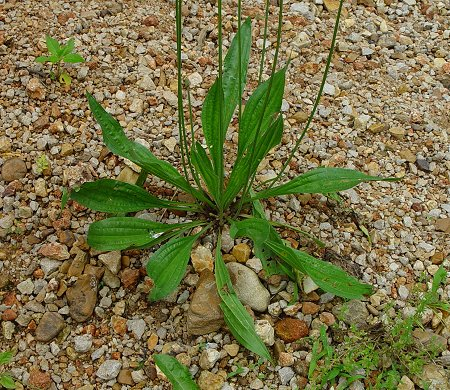buckhorn plantain: (80, 1, 376, 300)
